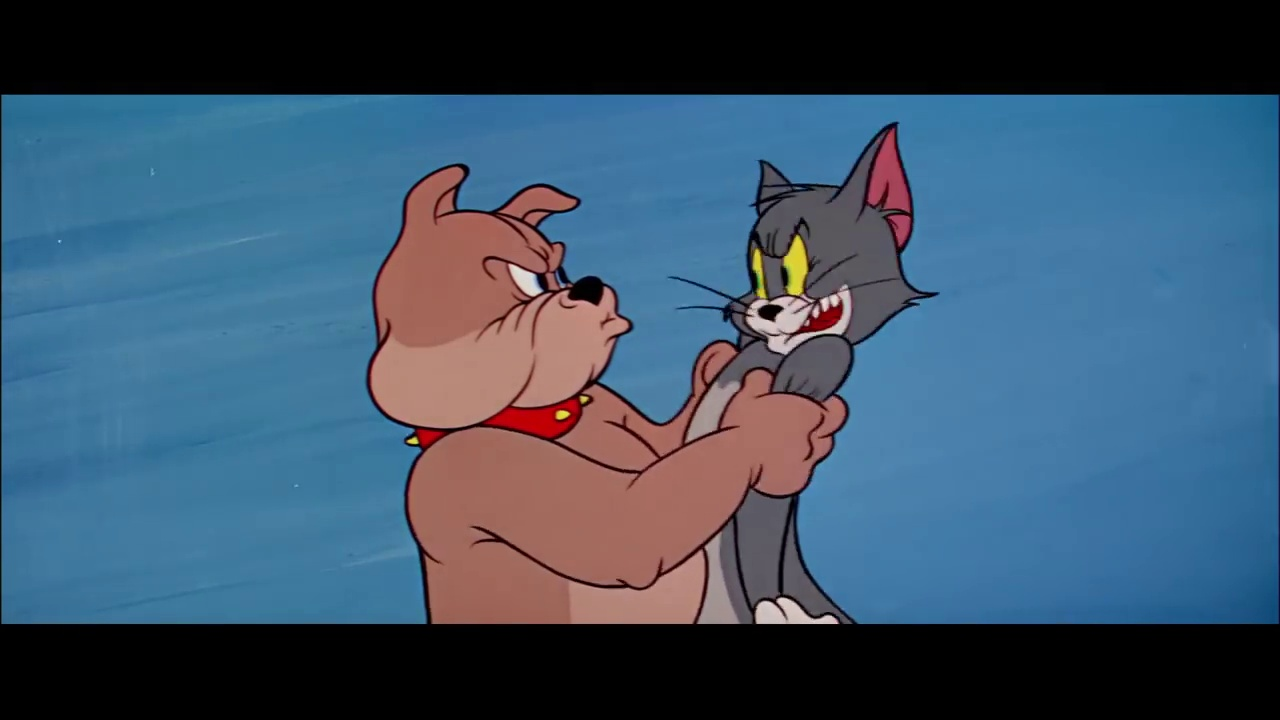spike: (361, 165, 640, 431)
tom: (714, 116, 949, 363)
